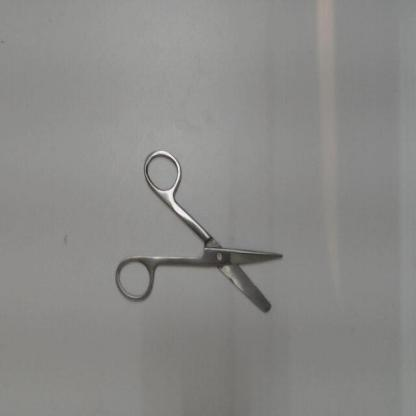Dressing Scissors: (107, 139, 303, 329)
